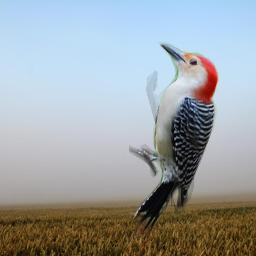Woodpecker: (129, 42, 219, 234)
